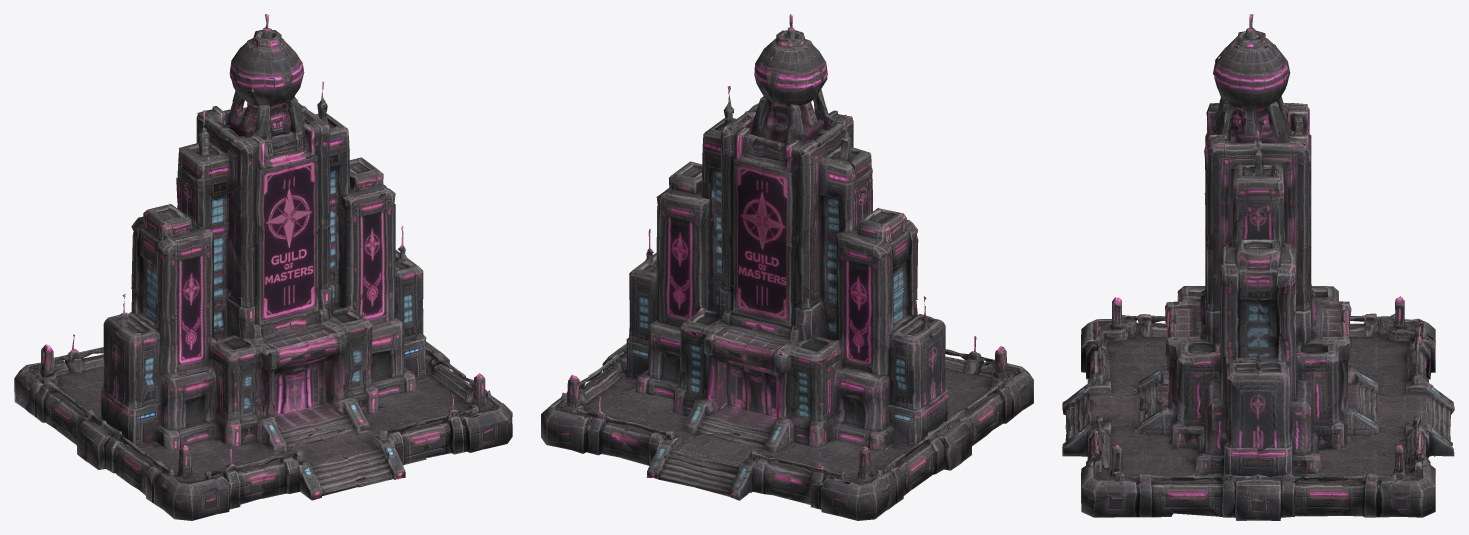
File: s12GuildOfMasters_LOD0.glb
3 renders of one model, left to right at view 1: azimuth 30°, elevation 25°; view 2: azimuth 150°, elevation 25°; view 3: azimuth 270°, elevation 25°, orthographic. The views are drawn at different scales.
Visible parts, largest first — view 1: Mesh_0.009; view 2: Mesh_0.009; view 3: Mesh_0.009.
Boxes of the visible parts, left/top/right/bottom form: Mesh_0.009: left=14, top=14, right=512, bottom=520; Mesh_0.009: left=541, top=14, right=1033, bottom=520; Mesh_0.009: left=1062, top=14, right=1454, bottom=520.
Size of the model in its own units: 1.72 by 1.9 by 1.61.
Materials: 1 (1 with a texture image).
